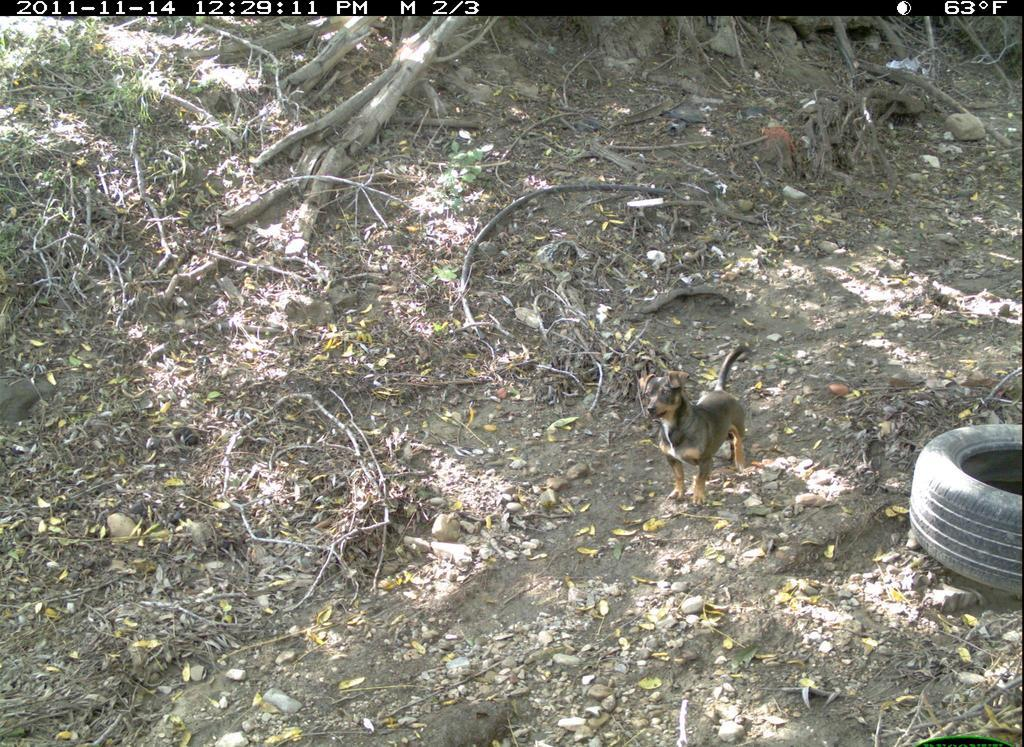dog: (611, 344, 765, 515)
